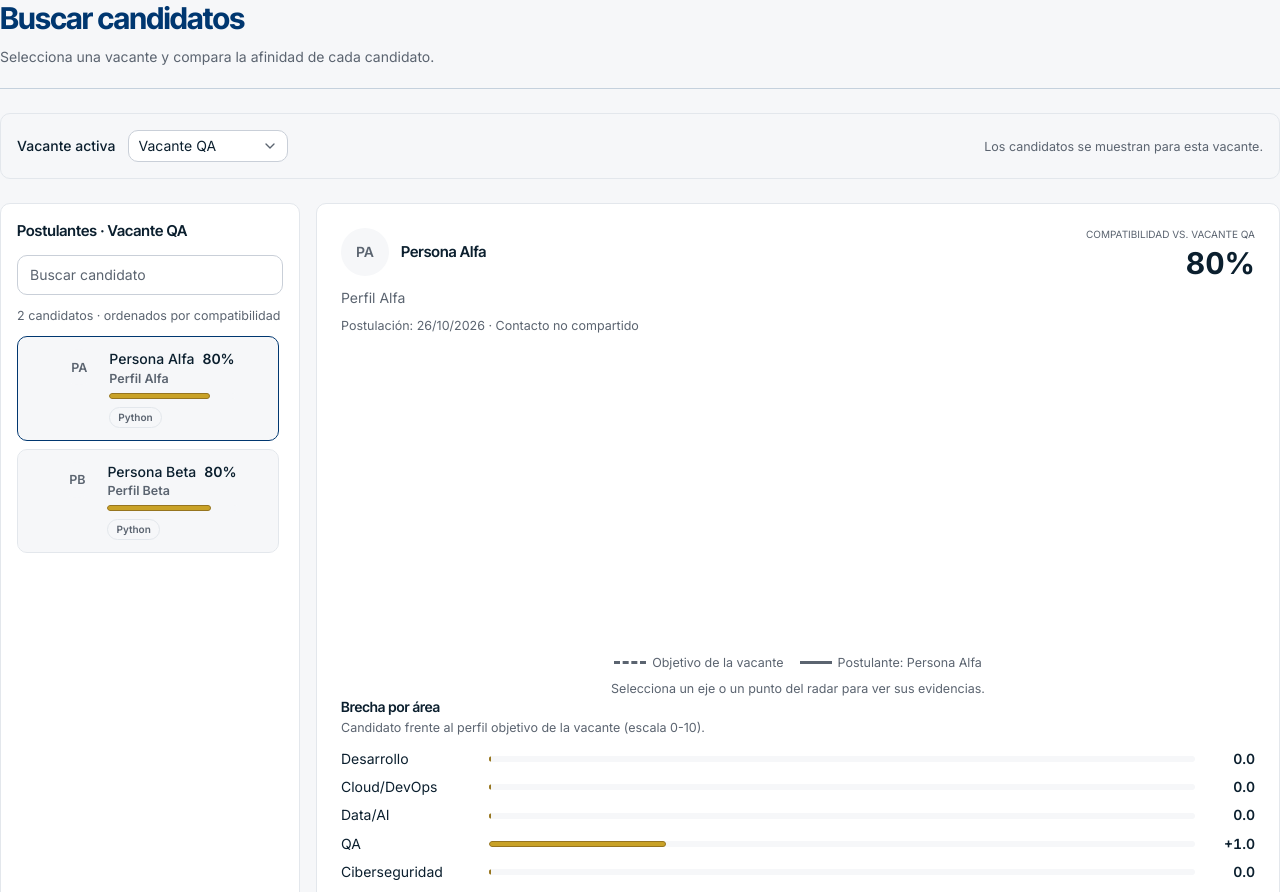
it: MatchingPage with authorized API data › does not fabricate candidates when a search has no results
Expected: the heading "Persona Alfa" is shown, [401,241,486,264]
Type "missing" into the search field labelled "Buscar candidato".
click(150, 275); type("missing")  # box [17,255,283,295]
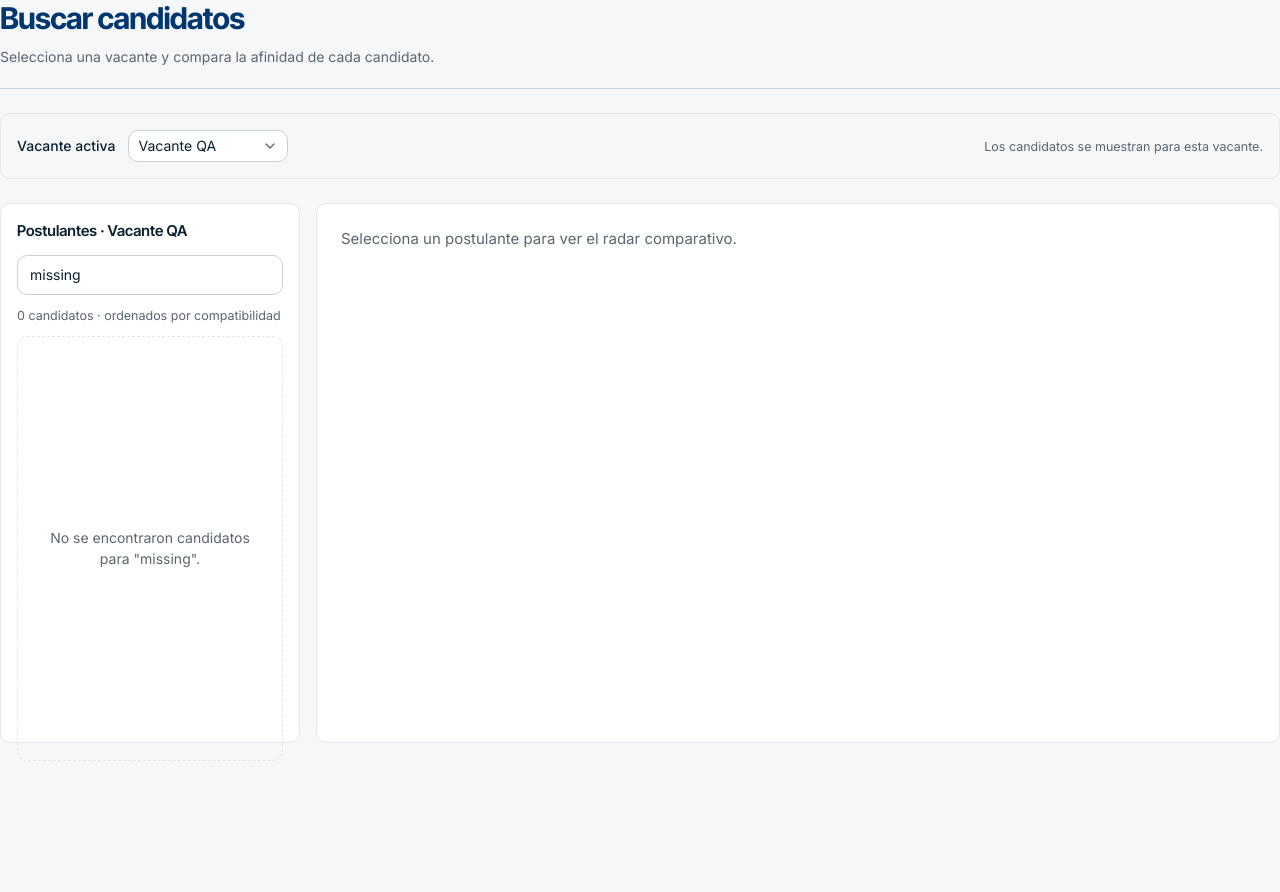
Result: the text "No se encontraron candidatos para \"missing\"." is shown at [17,336,283,761]
Result: the button "Persona Alfa" is gone
